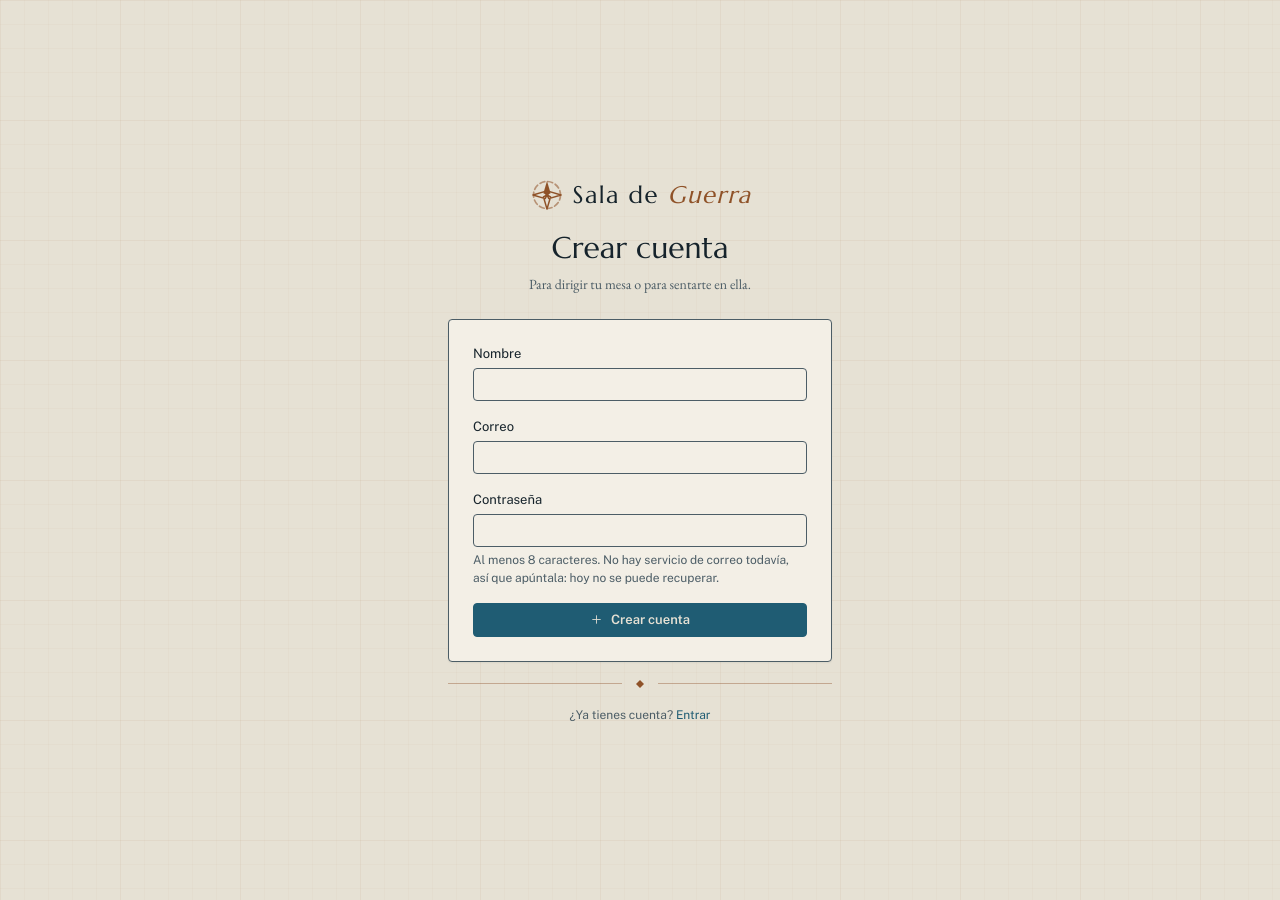
Test: RegisterPage › announces a failed registration as an alert, not silent text
The width and height of the screenshot is (1280, 900).
Type "B" into the field labelled "Nombre" at x=640, y=384, box 473,368 -> 807,401
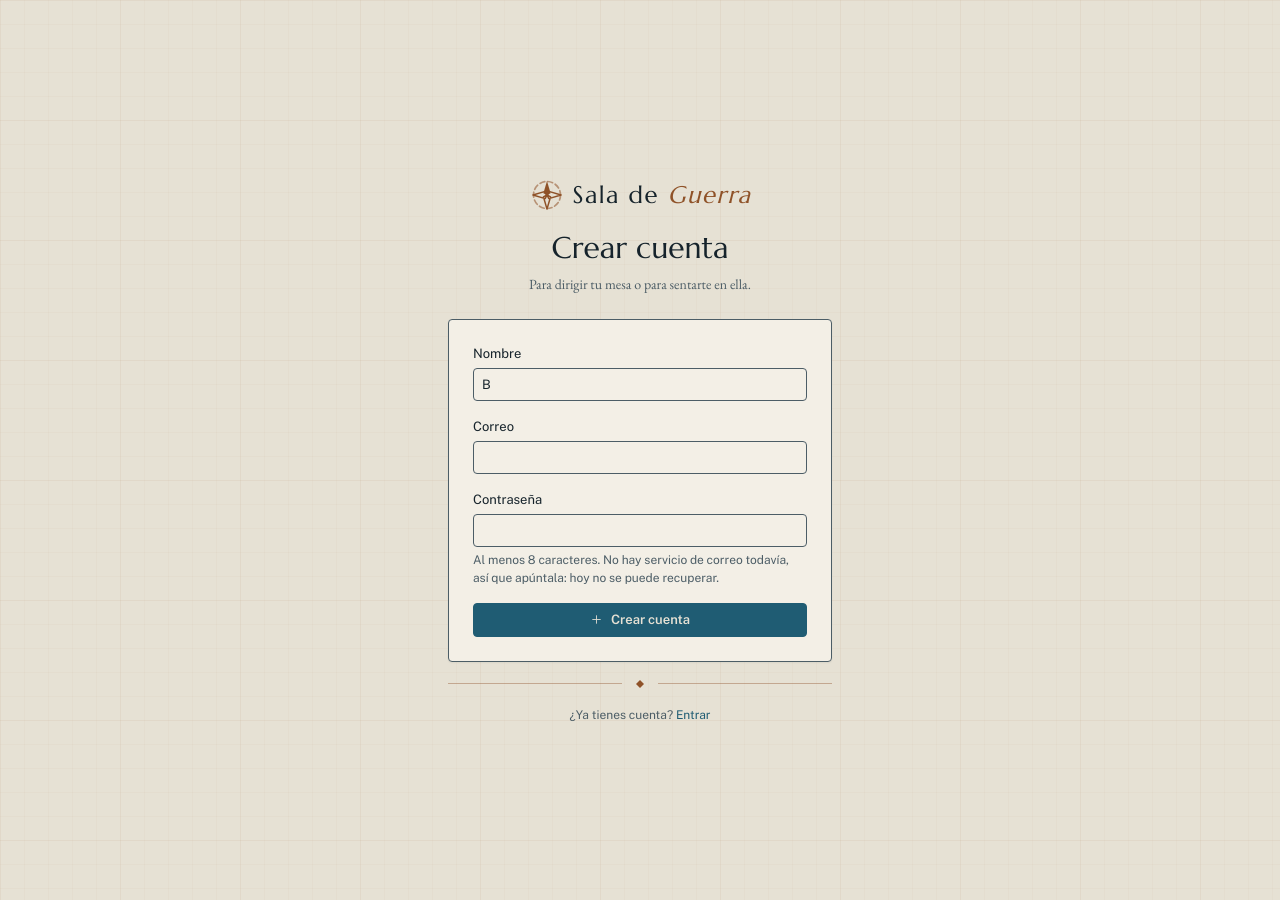
Type "b@b.com" into the field labelled "Correo" at x=640, y=457, box 473,440 -> 807,474
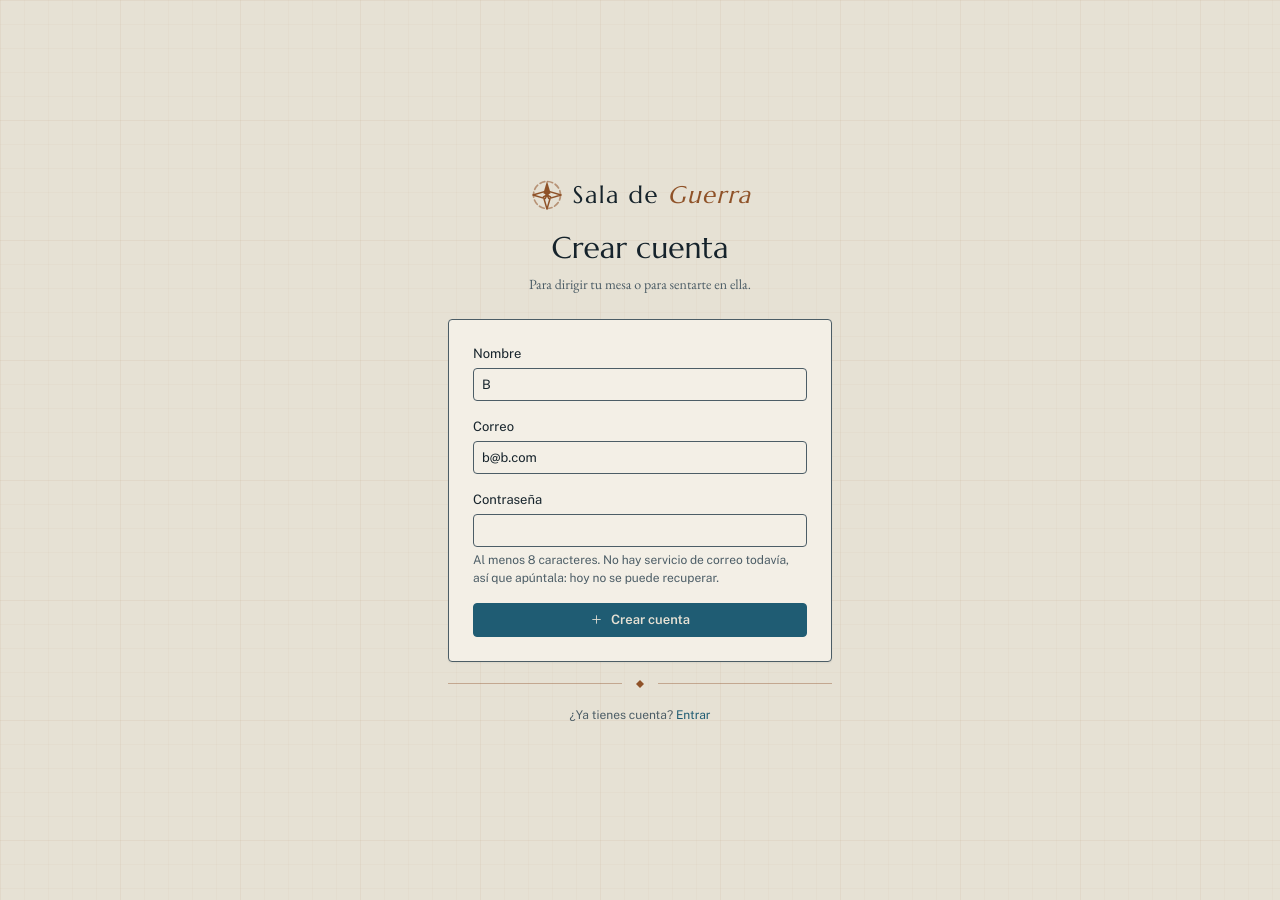
Type "password123" into the password field labelled "Contraseña" at x=640, y=530, box 473,514 -> 807,547
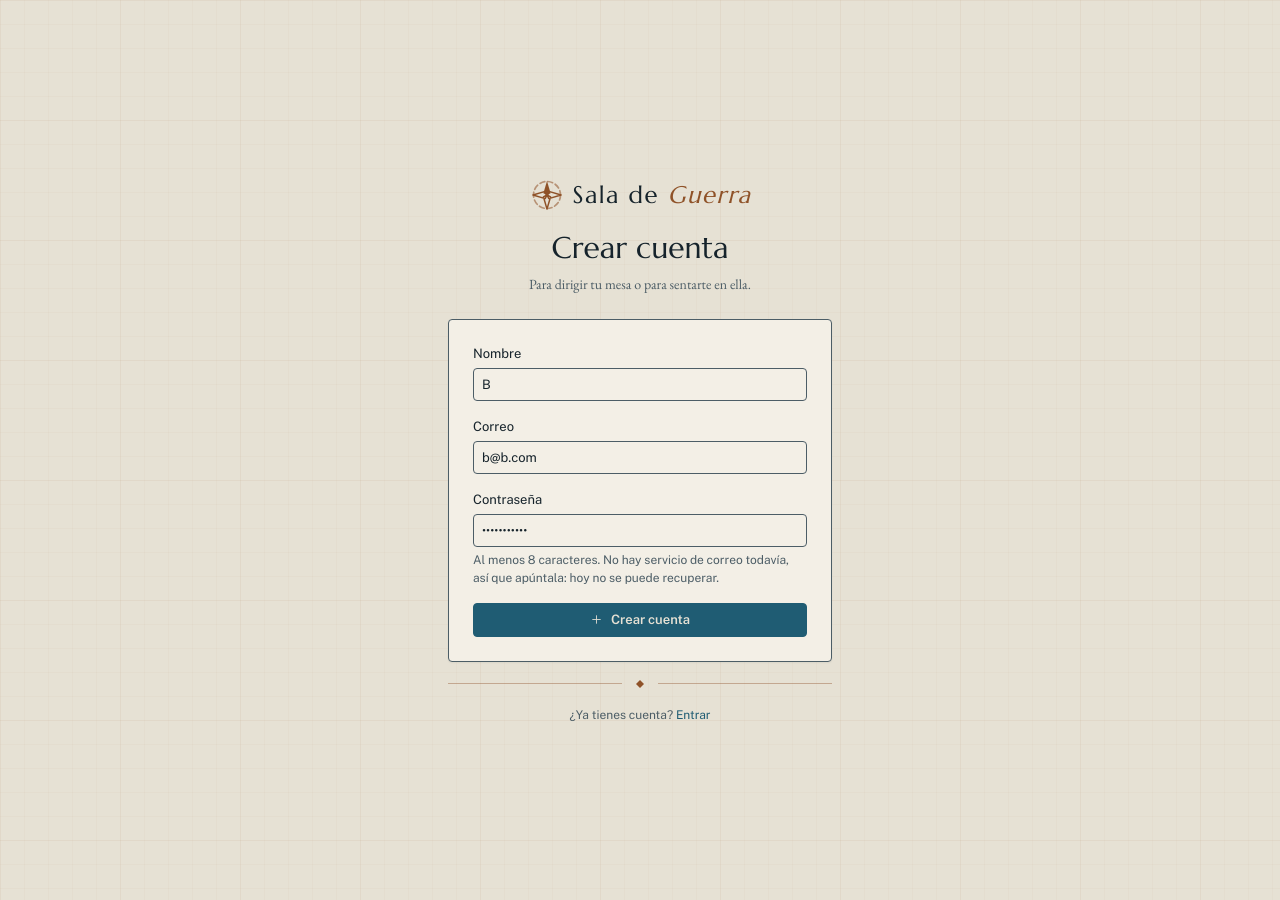
Click the button "Crear cuenta" at x=640, y=620, box 473,603 -> 807,636
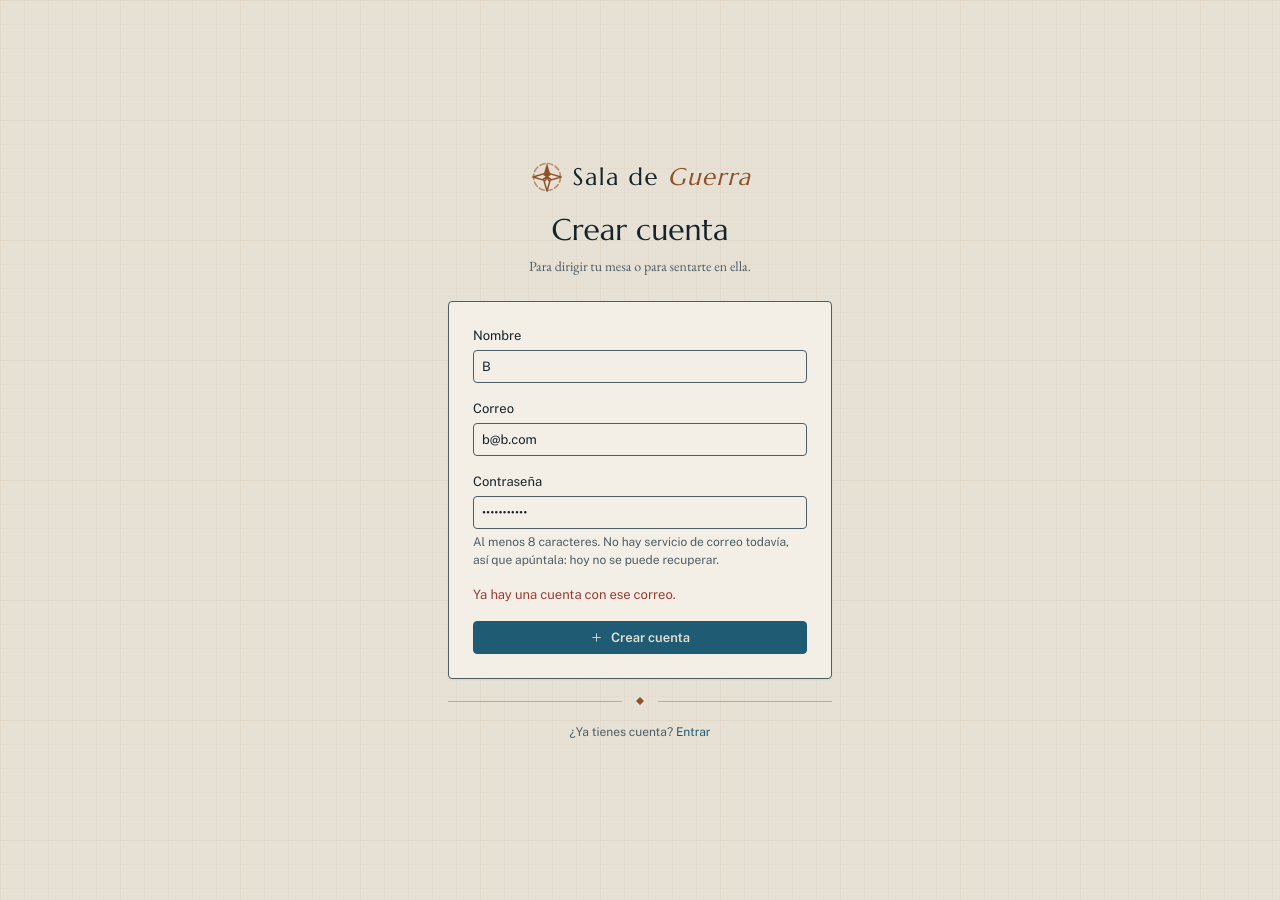
Now the message reads "Ya hay una cuenta con ese correo.", box 473,587 -> 676,602
